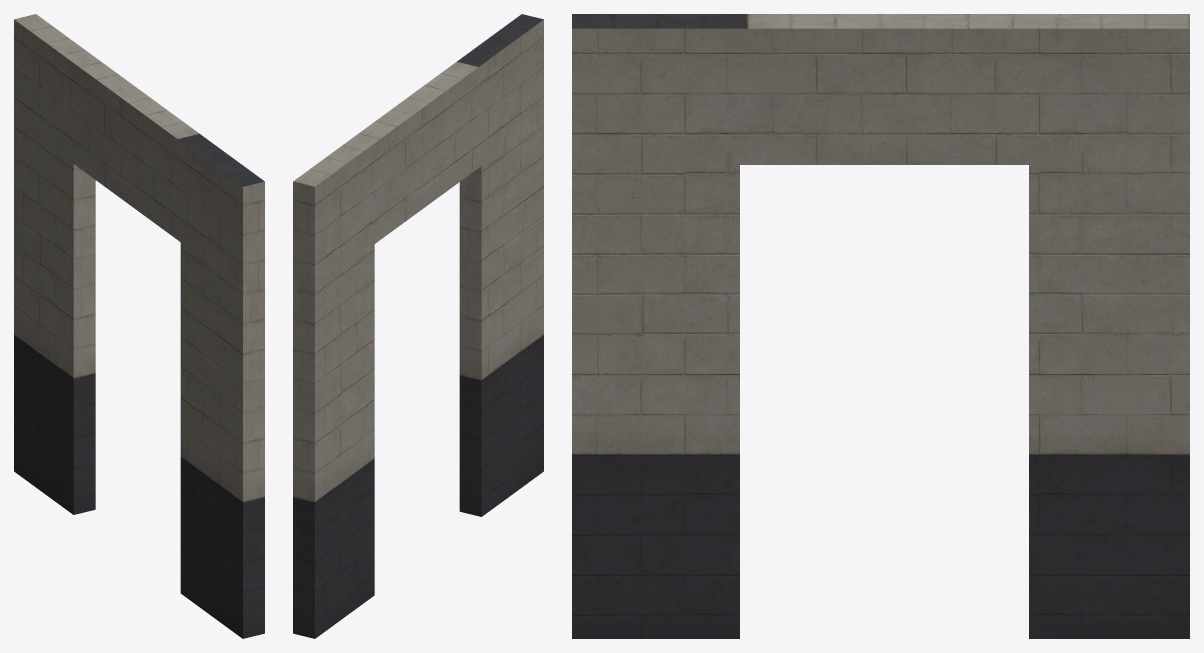
Rendered from soupdoorwall020.glb.
3 views of the same model, side by side, from view 1: azimuth 30°, elevation 25°; view 2: azimuth 150°, elevation 25°; view 3: azimuth 270°, elevation 25° (orthographic). The views are drawn at different scales.
Visible parts, largest first — view 1: soupdoorwall020_high_1; view 2: soupdoorwall020_high_1; view 3: soupdoorwall020_high_1.
Boxes of the visible parts, <box> form: soupdoorwall020_high_1: <box>14,14,264,638</box>; soupdoorwall020_high_1: <box>293,14,543,638</box>; soupdoorwall020_high_1: <box>572,14,1189,638</box>.
Size of the model in its own units: 0.1504 by 2.95 by 2.7.
Materials: 1 (1 with a texture image).
